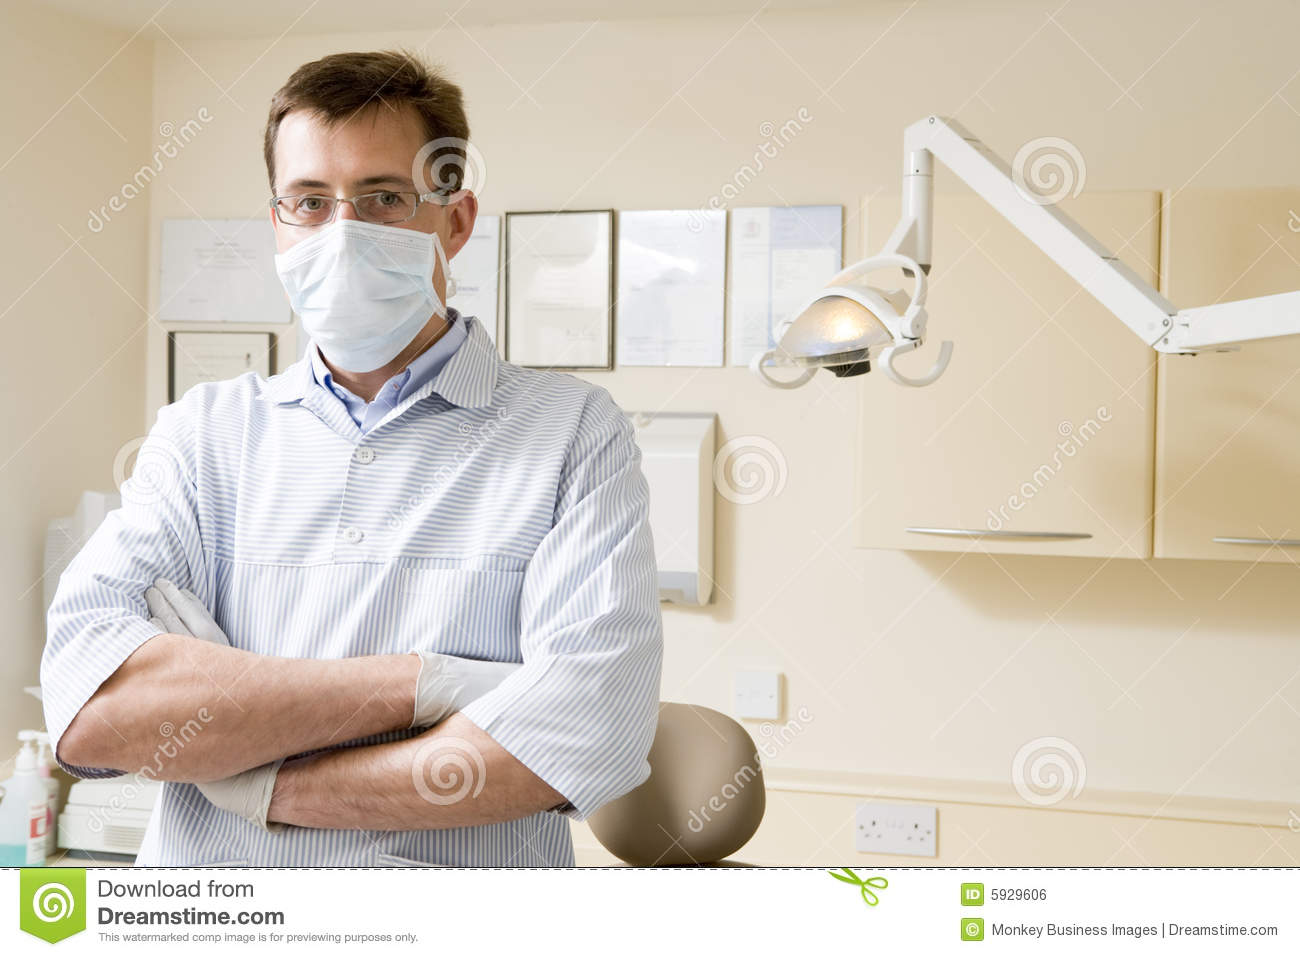mask: (274, 223, 449, 378)
